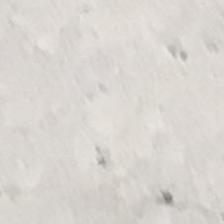Non_Crack: (30, 25, 169, 180)
